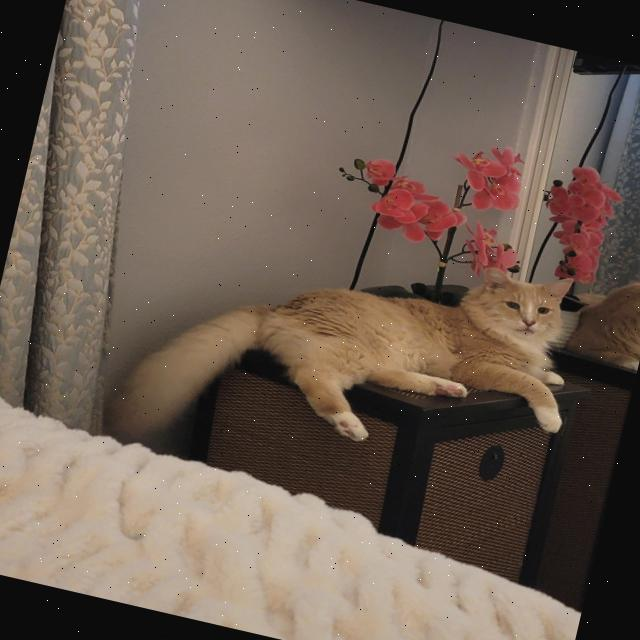maine_coon_cat: (441, 249, 599, 364)
